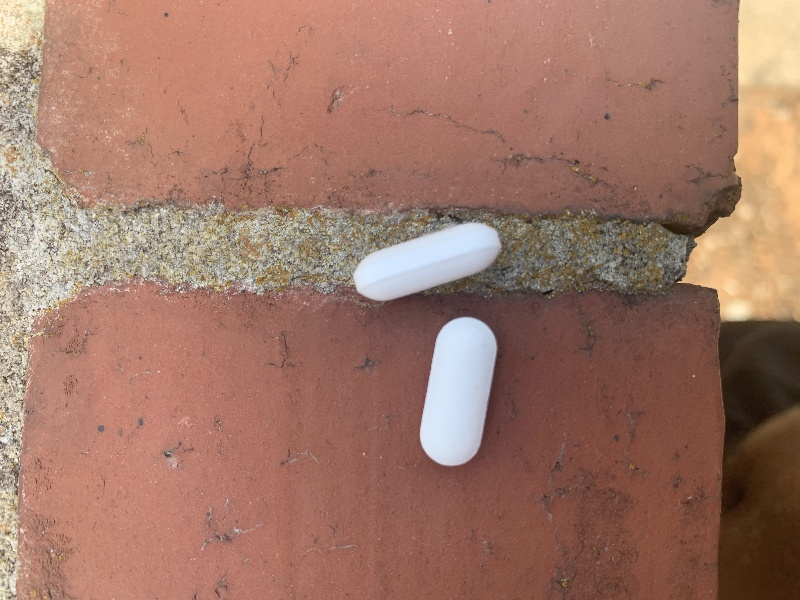Tylenol: (414, 313, 505, 469), (348, 221, 509, 305)
